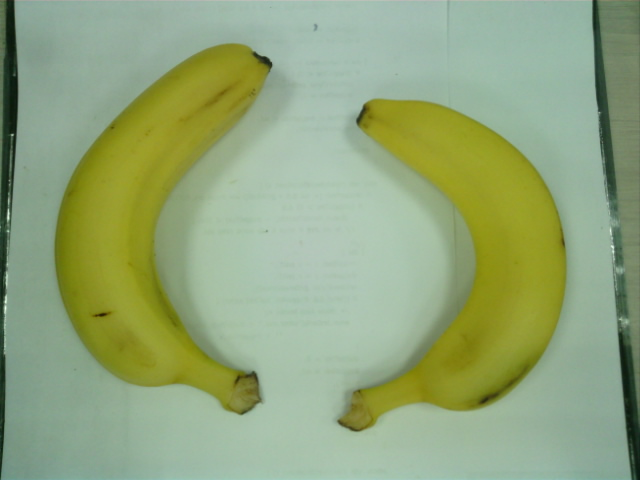normal_banana: (57, 42, 273, 420), (337, 98, 566, 431)
